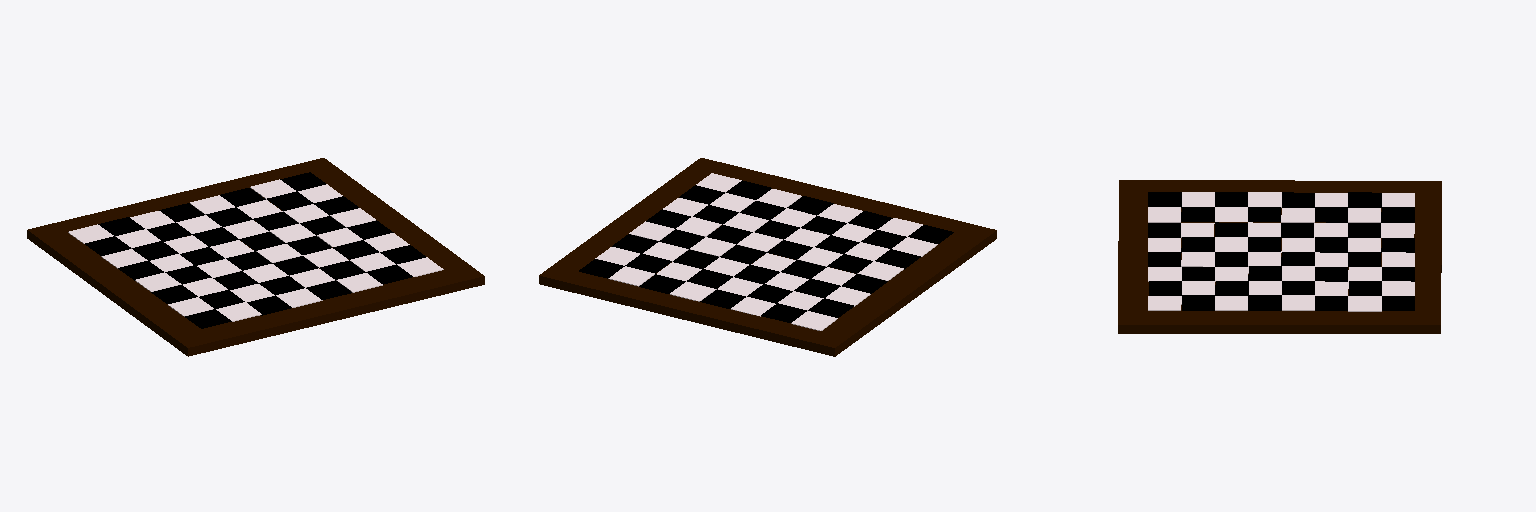
File: chessboardrotated.obj
3 views of the same model, side by side, from view 1: azimuth 30°, elevation 25°; view 2: azimuth 150°, elevation 25°; view 3: azimuth 270°, elevation 25° (orthographic).
Visible parts, largest first — view 1: Cube.049_Cube.168, Cube; view 2: Cube.049_Cube.168, Cube; view 3: Cube.049_Cube.168, Cube.
Boxes of the visible parts, <box> form: Cube.049_Cube.168: <box>68,172,443,328</box>; Cube: <box>27,158,484,356</box>; Cube.049_Cube.168: <box>579,173,953,330</box>; Cube: <box>539,158,996,356</box>; Cube.049_Cube.168: <box>1148,192,1414,311</box>; Cube: <box>1118,180,1441,333</box>.
Size of the model in its own units: 7.28 by 0.2587 by 6.87.